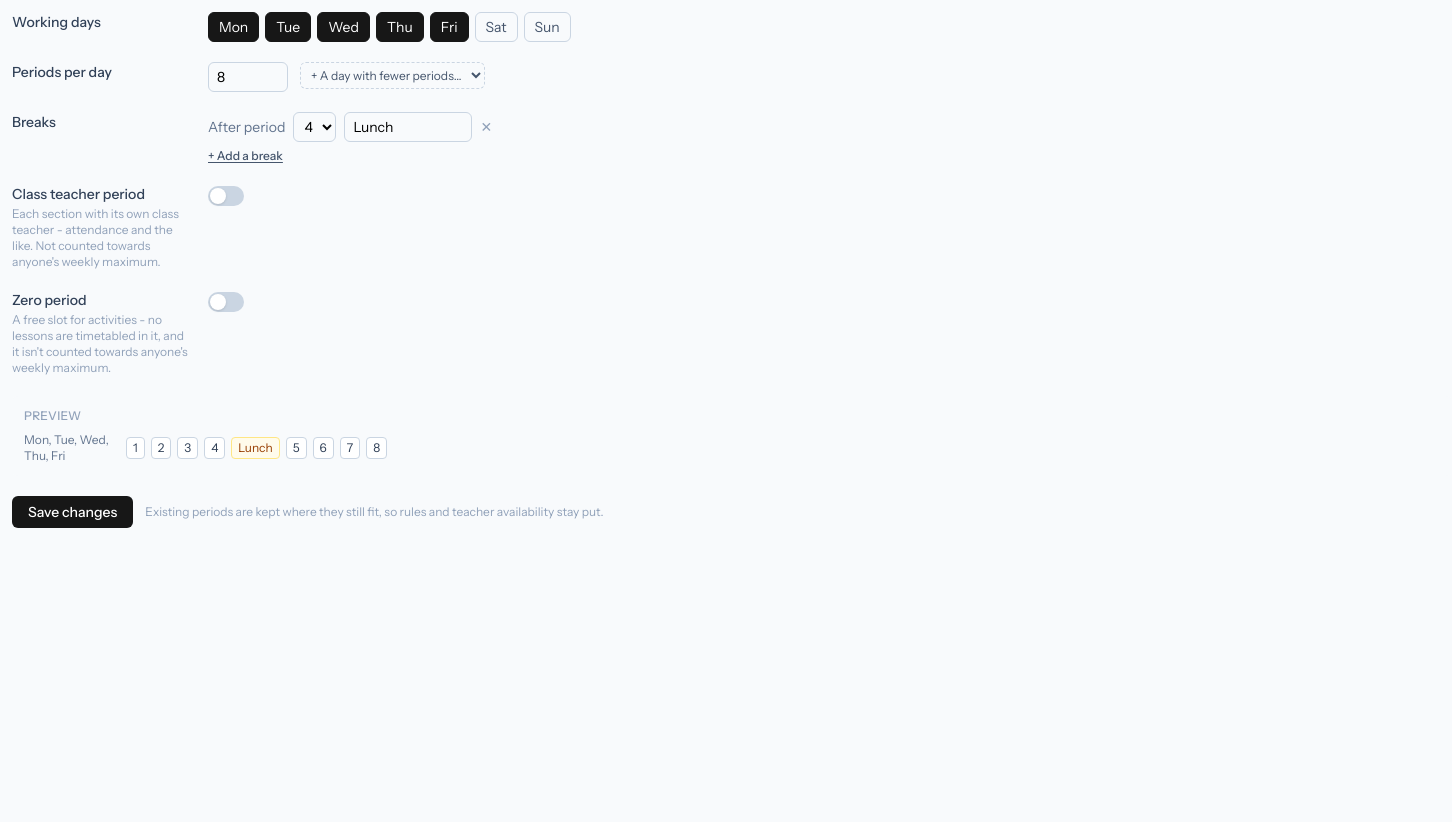
Test: saving › says what else changed
Expected: the text "Working days" is shown, [12,13,101,31]
Click the button "Save changes" at (73,512), box [12,496,133,528]
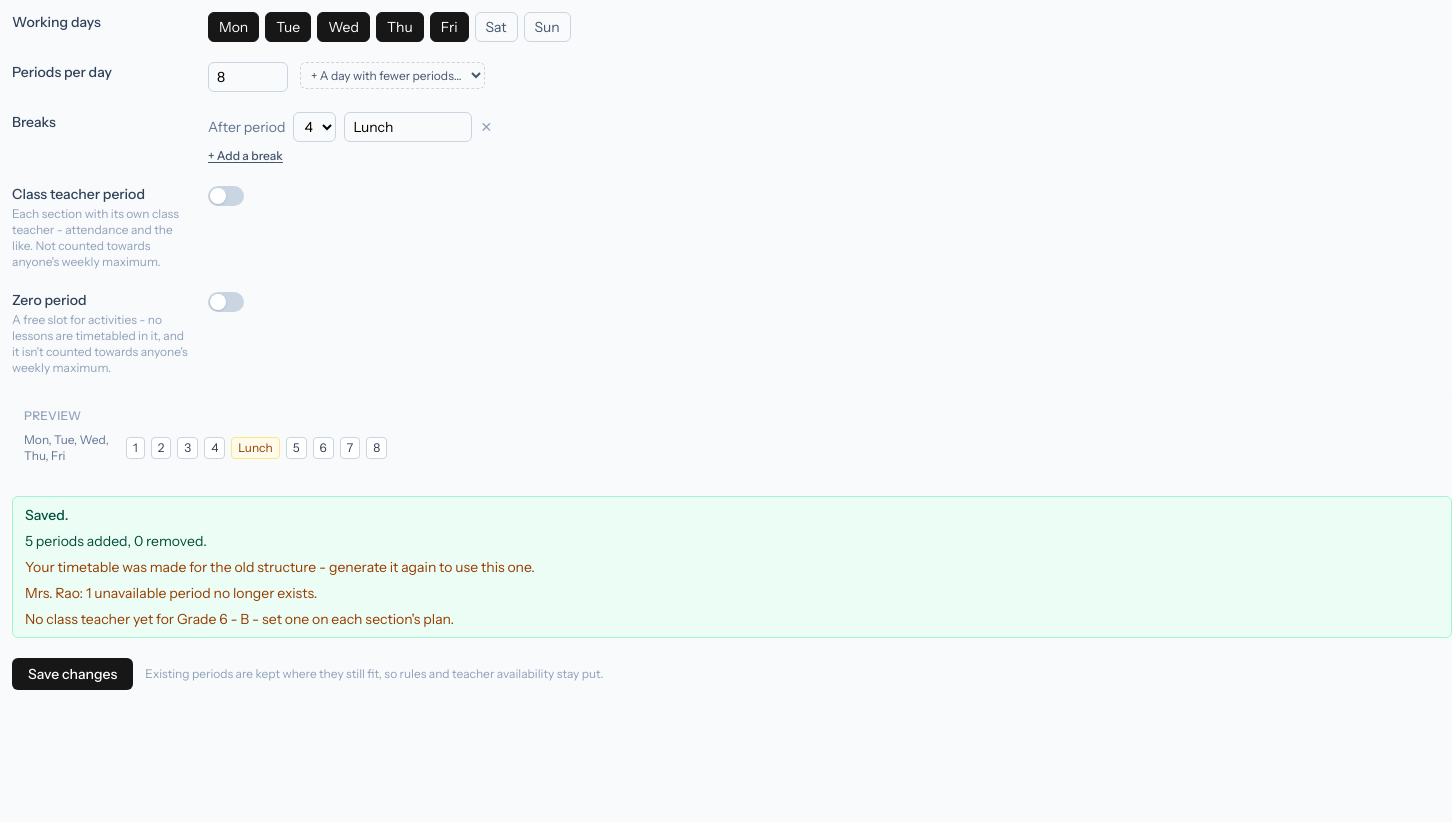
Result: the text "generate it again" is shown at [25,558,535,576]
Result: the text "Mrs. Rao: 1 unavailable period no longer exists." is shown at [25,584,317,602]
Result: the text "No class teacher yet for Grade 6 - B" is shown at [25,610,454,628]
